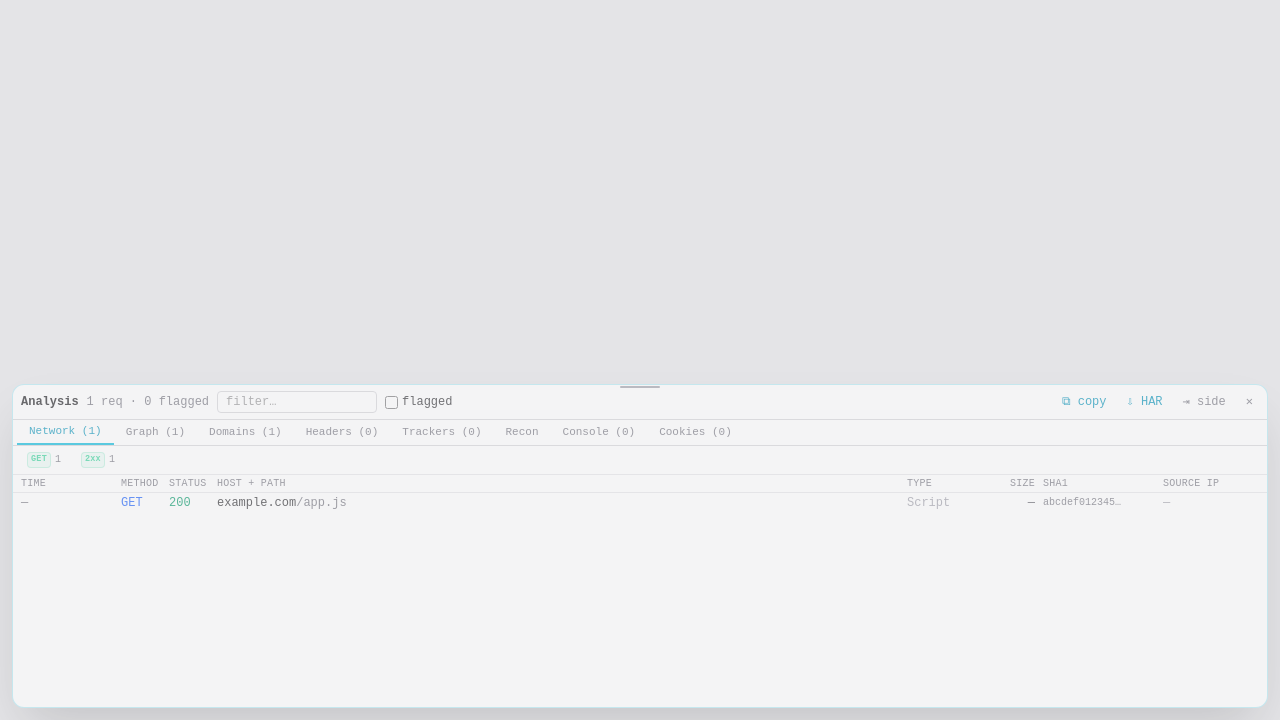
Test: IsolaNetworkPanel method/status filters › shows the streamer SHA-1 in the row detail with a copy affordance
The image size is (1280, 720).
Click the element titled "https://example.com/app.js": (257, 503) [13,493,1267,513]
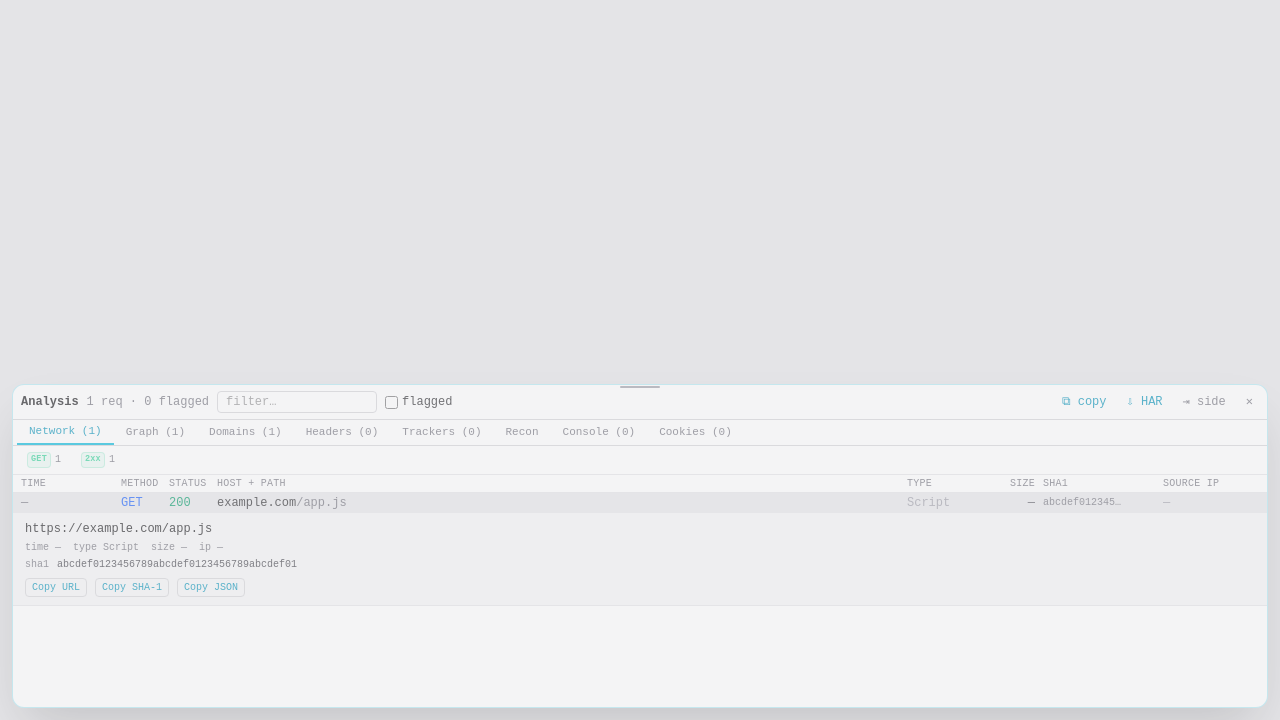
expect the text "abcdef0123456789abcdef0123456789abcdef01" is shown: met, box [57,558,297,572]
expect the button "Copy SHA-1" is shown: met, box [95,578,169,597]
